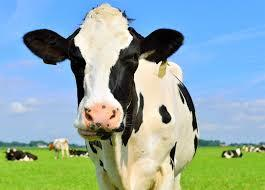cow: (23, 5, 198, 189), (4, 147, 37, 162), (48, 138, 70, 160), (221, 149, 242, 158), (70, 150, 88, 158)
